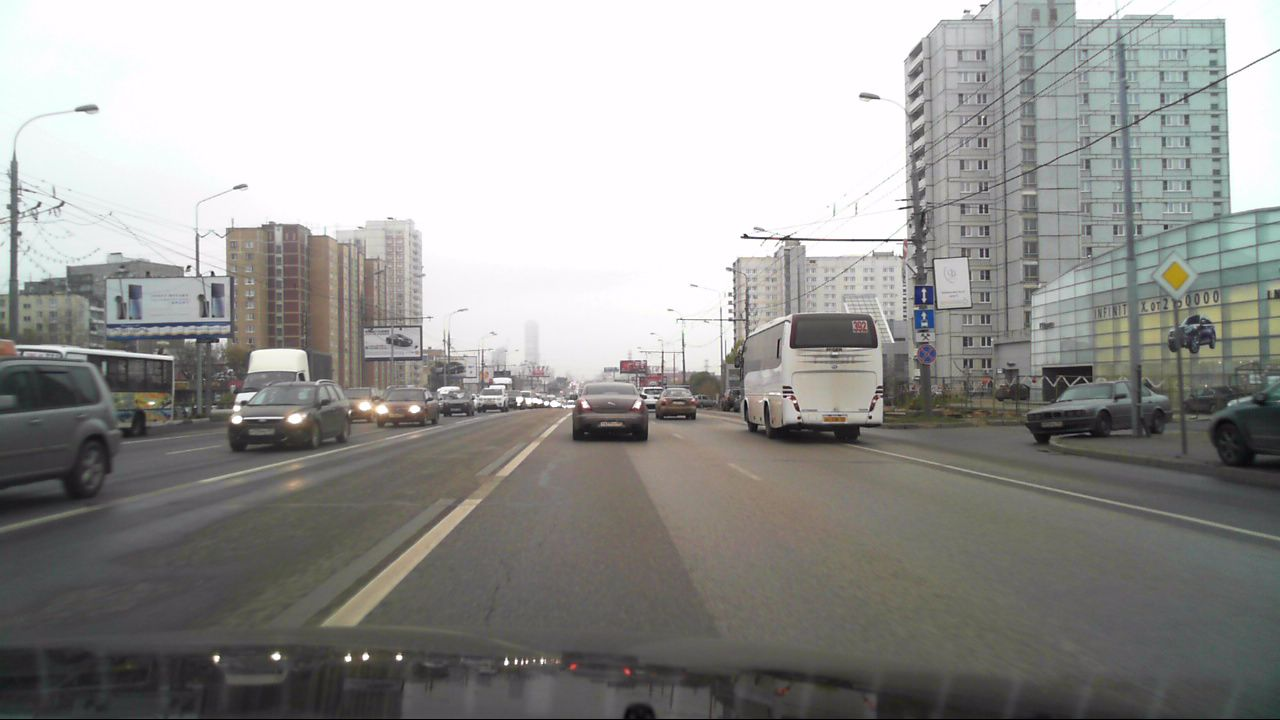No Parking: (916, 343, 937, 364)
